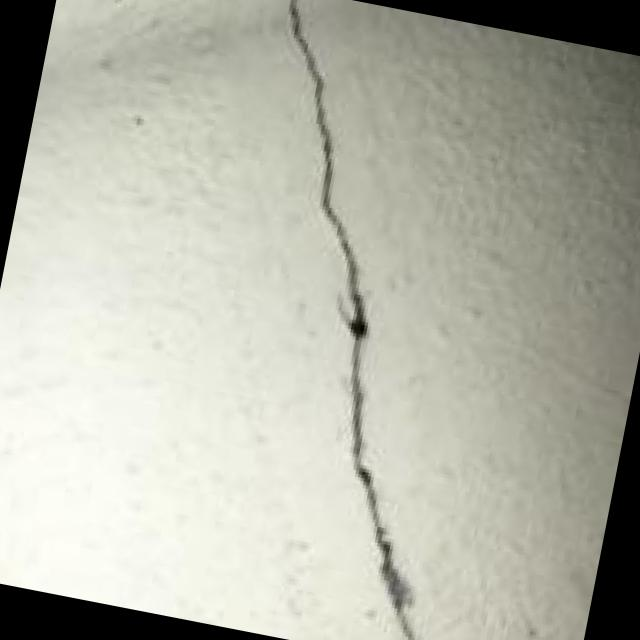crack: (143, 0, 585, 640)
